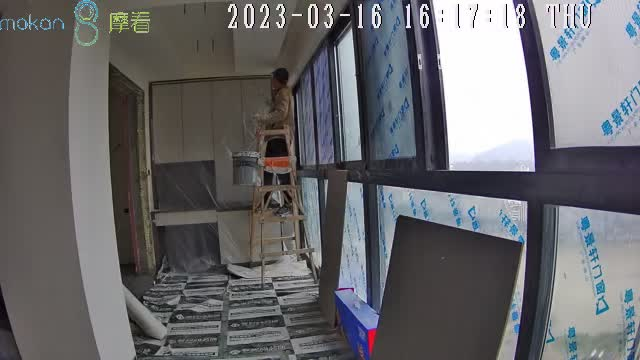people: (258, 68, 297, 215)
window: (283, 1, 639, 360)
